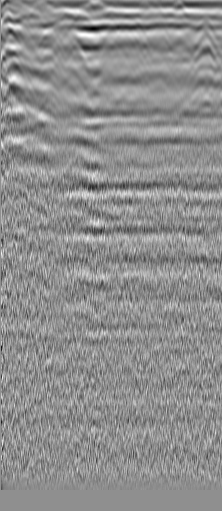오수: (35, 23, 55, 43)
우수: (167, 33, 187, 53)
